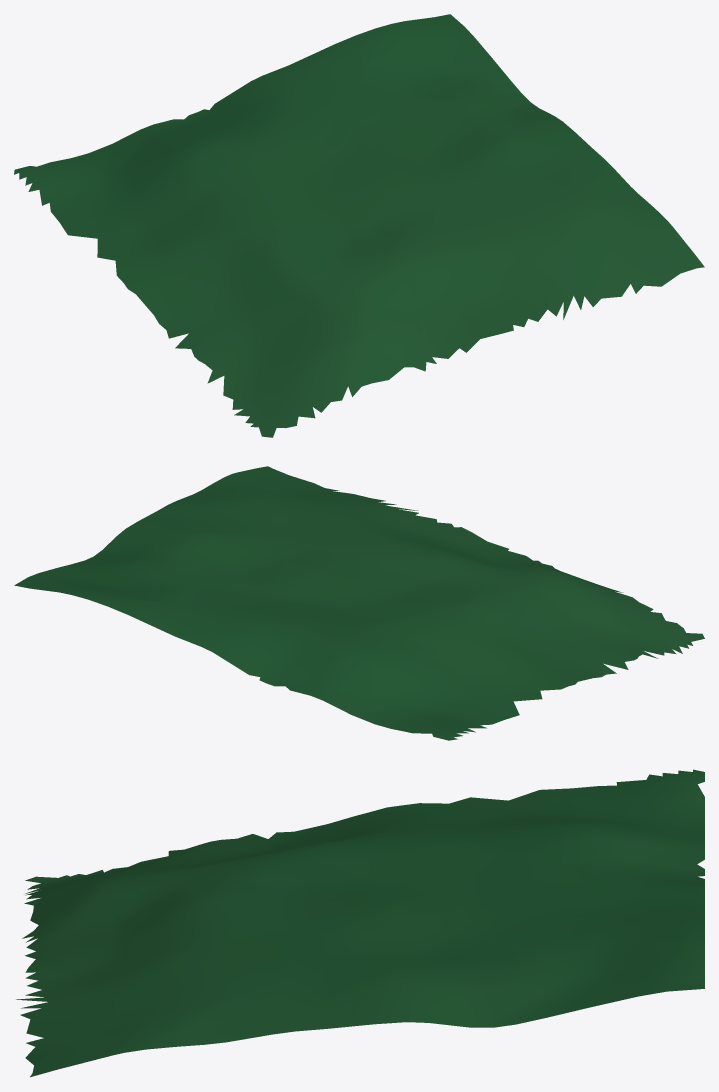
File: payo_land_x3_y4_lod1.glb
3 views of the same model, one above another, from view 1: azimuth 30°, elevation 25°; view 2: azimuth 150°, elevation 25°; view 3: azimuth 270°, elevation 25° (orthographic). The views are drawn at different scales.
Parts seen in each view (by area): view 1: payo_land_x3_y4; view 2: payo_land_x3_y4; view 3: payo_land_x3_y4.
Part boxes in pixels (x1=…): payo_land_x3_y4: x1=14, y1=14, x2=704, y2=437; payo_land_x3_y4: x1=14, y1=466, x2=704, y2=740; payo_land_x3_y4: x1=16, y1=769, x2=704, y2=1077.
Size of the model in its own units: 261 by 75.51 by 264.
